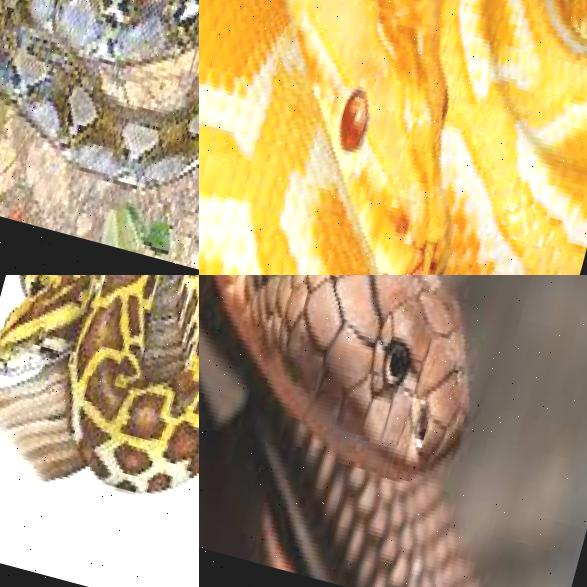snake: (199, 275, 587, 587), (199, 0, 587, 275), (0, 275, 199, 587), (0, 0, 199, 275)
